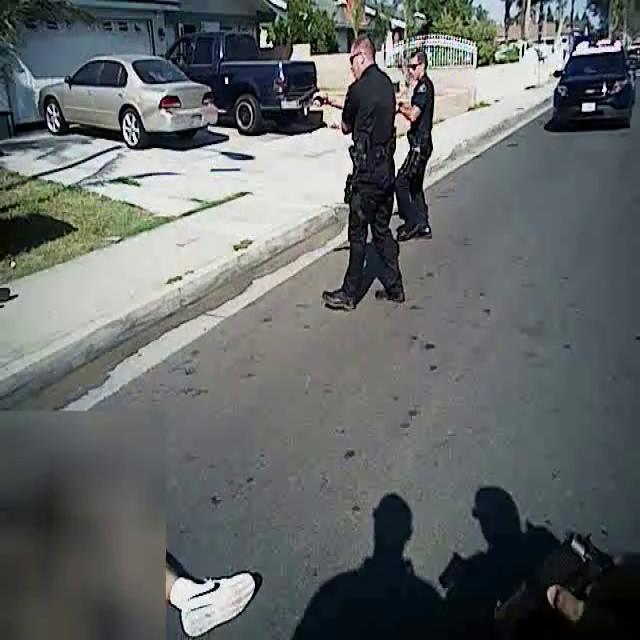gun: (282, 74, 332, 122)
